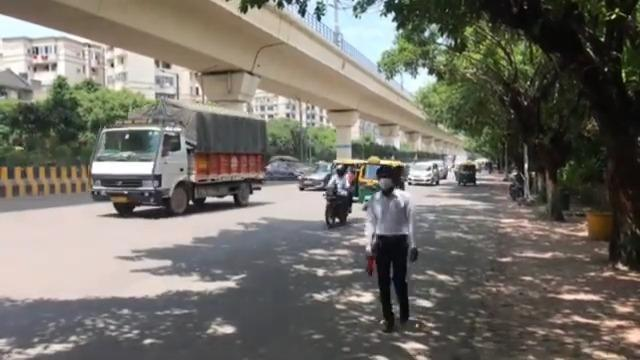Auto: (454, 162, 477, 186)
Bike: (322, 162, 355, 228), (508, 167, 525, 200)
Truck: (87, 96, 268, 216)
